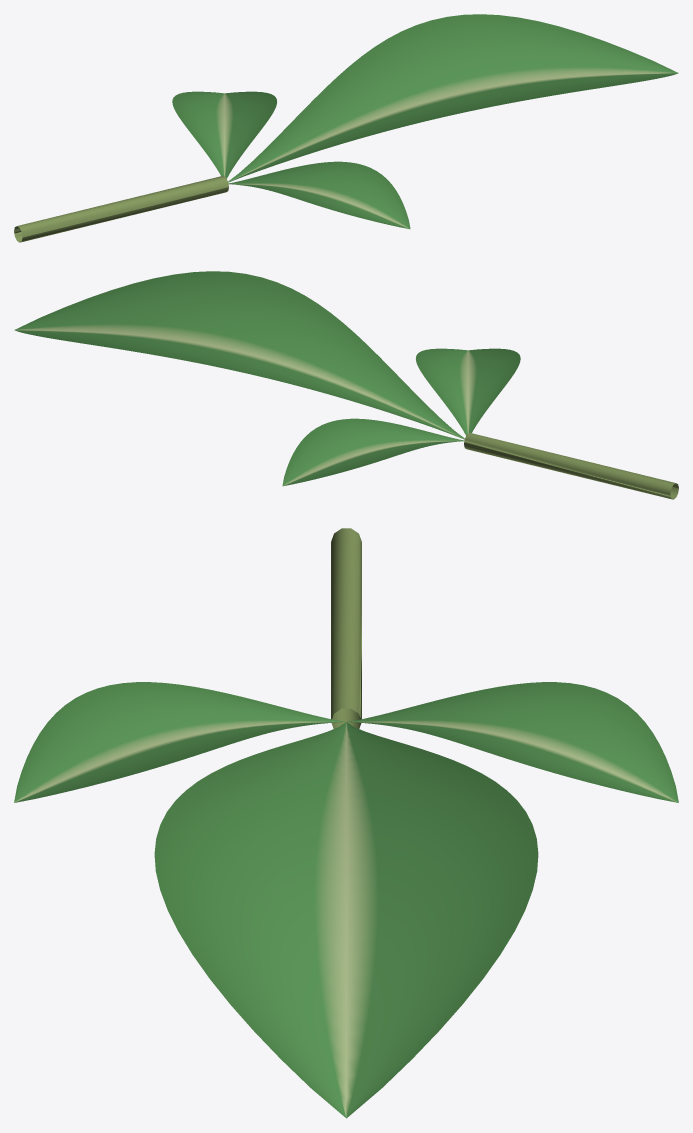
The model's file is hoja-trifoliada.glb.
3 renders of one model, top to bottom at view 1: azimuth 30°, elevation 25°; view 2: azimuth 150°, elevation 25°; view 3: azimuth 270°, elevation 25°, orthographic. The views are drawn at different scales.
Visible parts, largest first — view 1: HojaTrifoliada; view 2: HojaTrifoliada; view 3: HojaTrifoliada.
Part boxes in pixels (box(x1,y1,x2,y2)): HojaTrifoliada: box(14, 14, 678, 242); HojaTrifoliada: box(14, 271, 678, 499); HojaTrifoliada: box(14, 528, 678, 1118).
Bounding box in the file's own units: 0.16 × 0.0159 × 0.0779.
